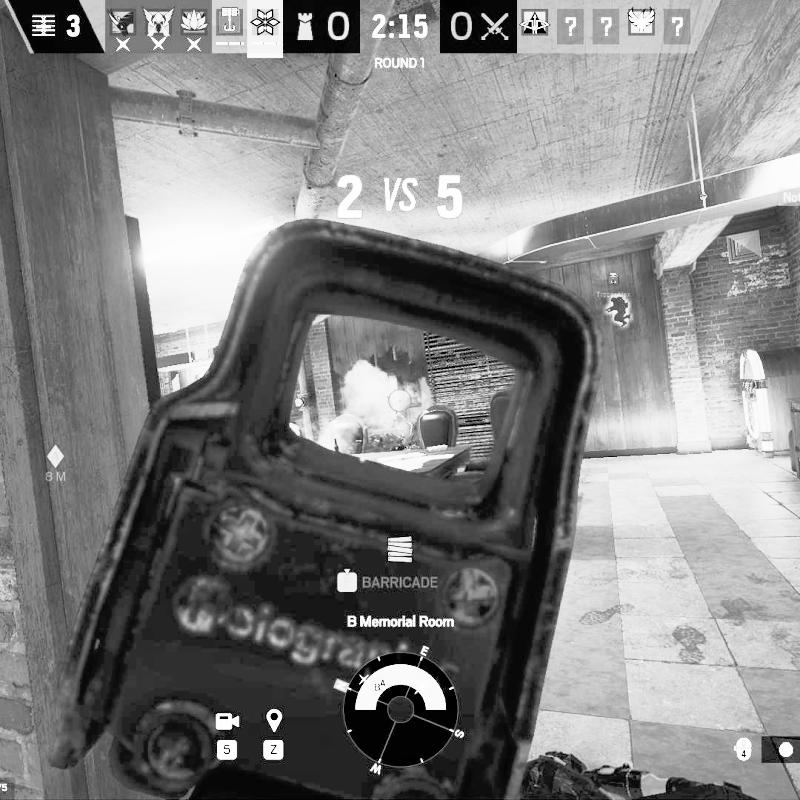Character: (366, 412, 414, 450)
Friend_label: (595, 271, 633, 299)
Head: (380, 412, 392, 429)
